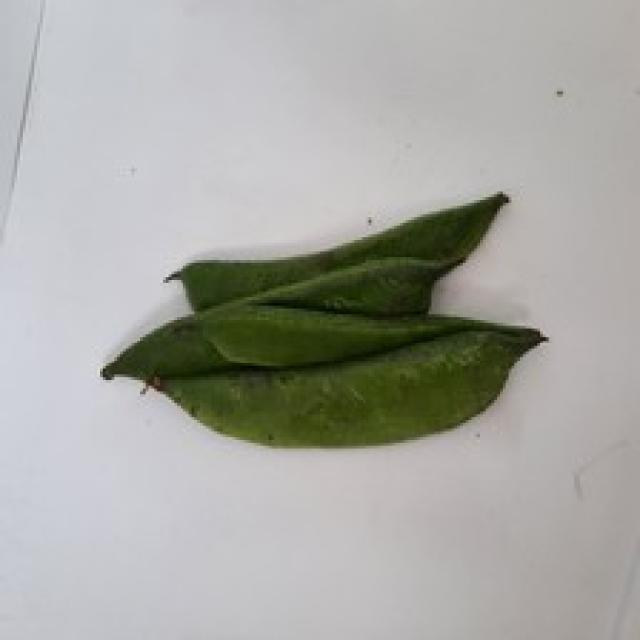Bean: (143, 323, 546, 448), (163, 189, 508, 314), (100, 300, 543, 386)
